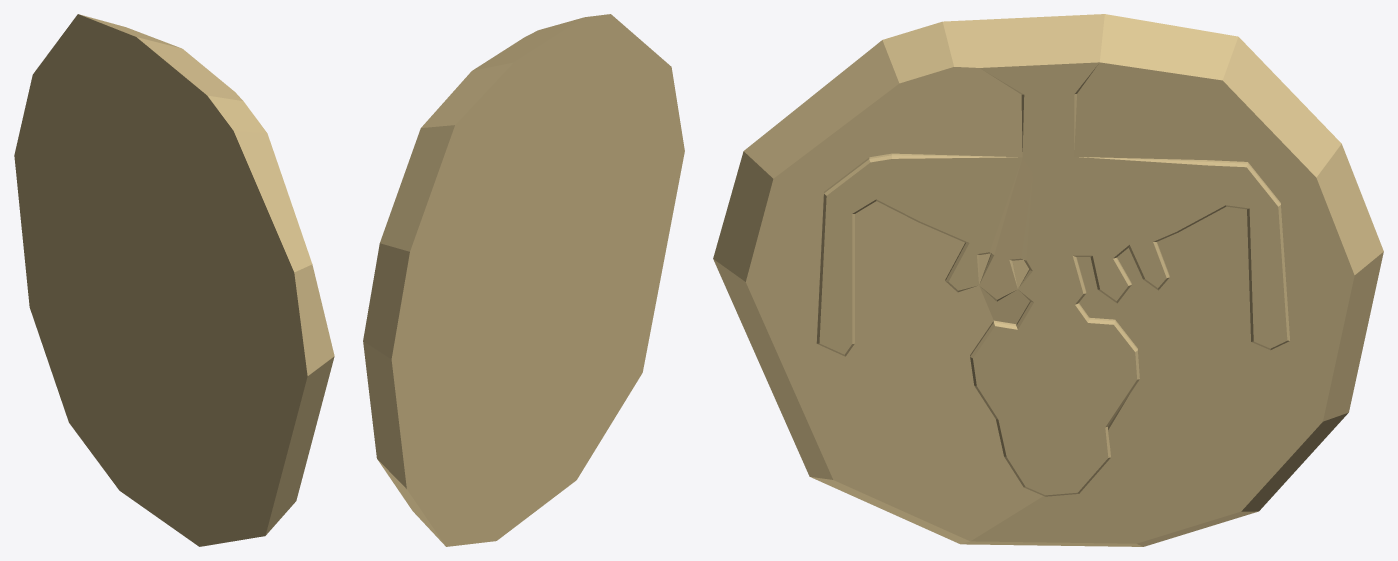
Rendered from Coin.fbx.
3 views of the same model, side by side, from view 1: azimuth 30°, elevation 25°; view 2: azimuth 150°, elevation 25°; view 3: azimuth 270°, elevation 25° (orthographic). The views are drawn at different scales.
Visible parts, largest first — view 1: cOIN; view 2: cOIN; view 3: cOIN.
Part boxes in pixels (x1,y1,x2,y2): cOIN: (14,14,334,546); cOIN: (363,14,684,546); cOIN: (713,14,1383,546).
Size of the model in its own units: 3.57 by 36.11 by 41.19.
